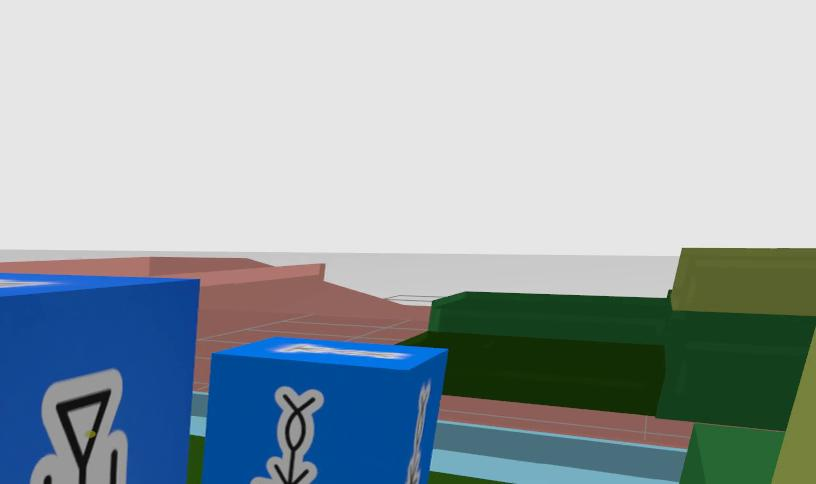KFS_REAL: (0, 271, 197, 483), (202, 337, 447, 483), (30, 370, 128, 483), (250, 387, 323, 483), (405, 382, 429, 483), (271, 343, 409, 358), (0, 279, 47, 288)
